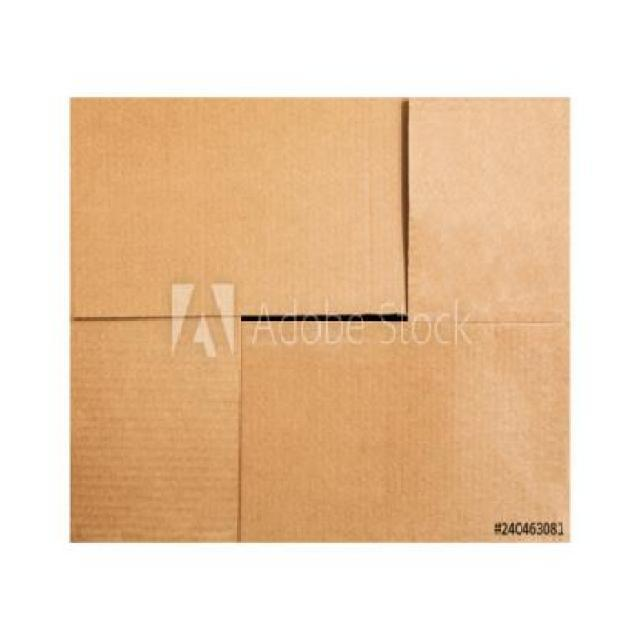obstacle: (73, 96, 569, 542)
